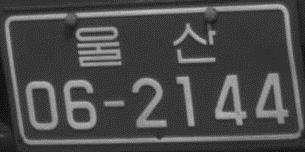-: (99, 96, 128, 111)
0: (23, 78, 60, 132)
1: (172, 73, 199, 130)
2: (129, 74, 168, 131)
4: (251, 69, 290, 129), (210, 70, 248, 127)
6: (61, 77, 98, 131)
울산_D: (74, 19, 218, 72)
